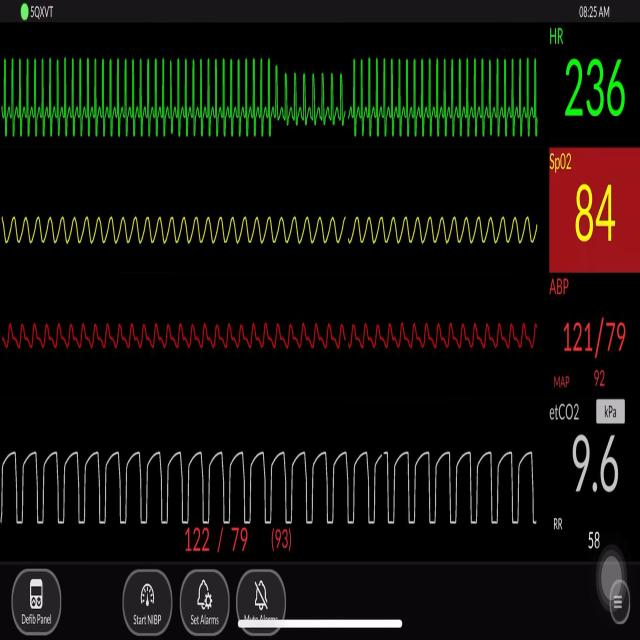danger: (5, 43, 267, 155), (346, 40, 546, 155), (272, 58, 340, 133)
